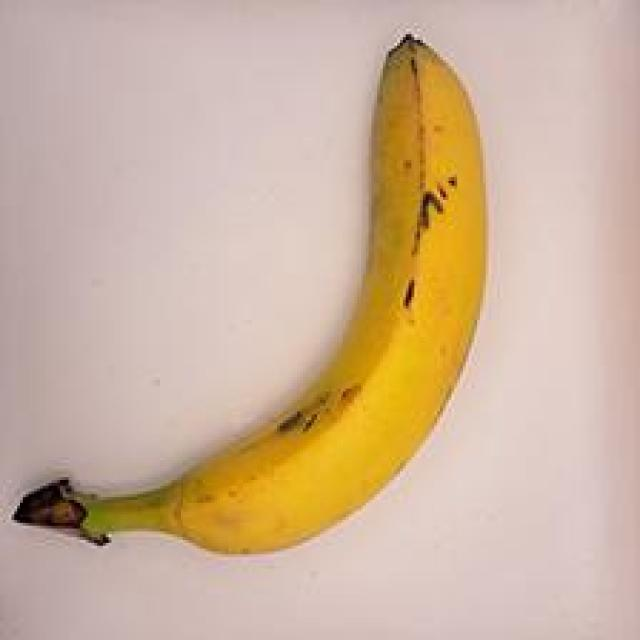ripe: (6, 22, 512, 572)
